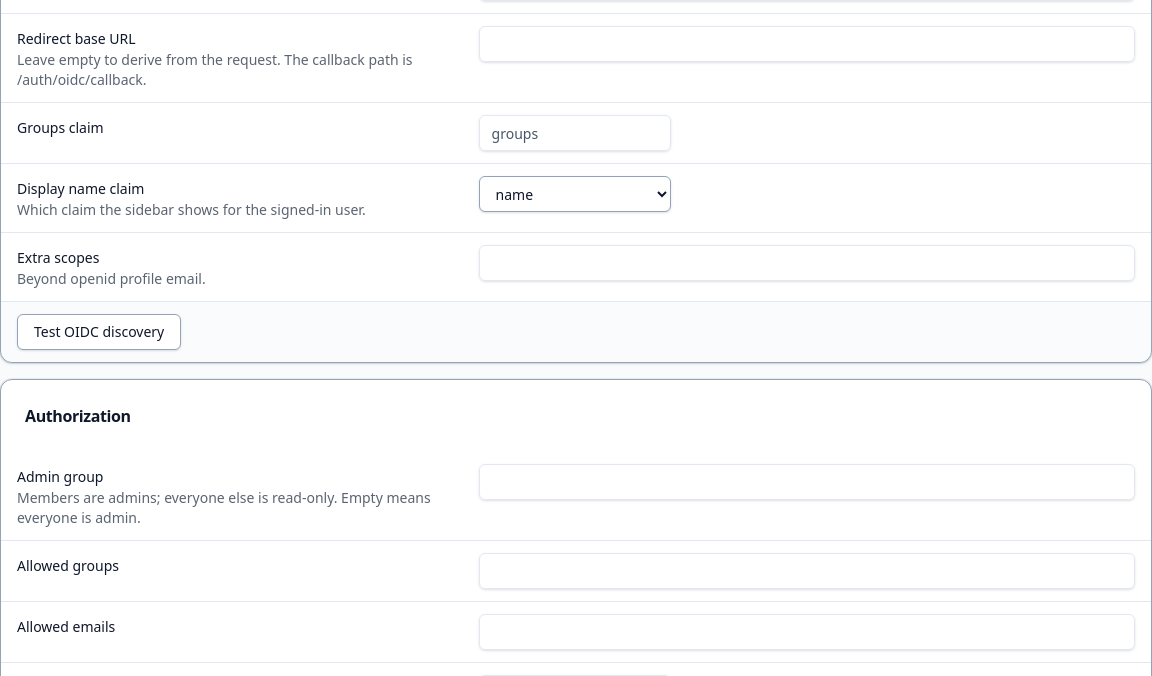
it: AccessSection › shows the Provider card with a working Test OIDC discovery button
The width and height of the screenshot is (1152, 676).
(page scrolled)
Click the button "Test OIDC discovery": (99,332) [17, 314, 181, 350]
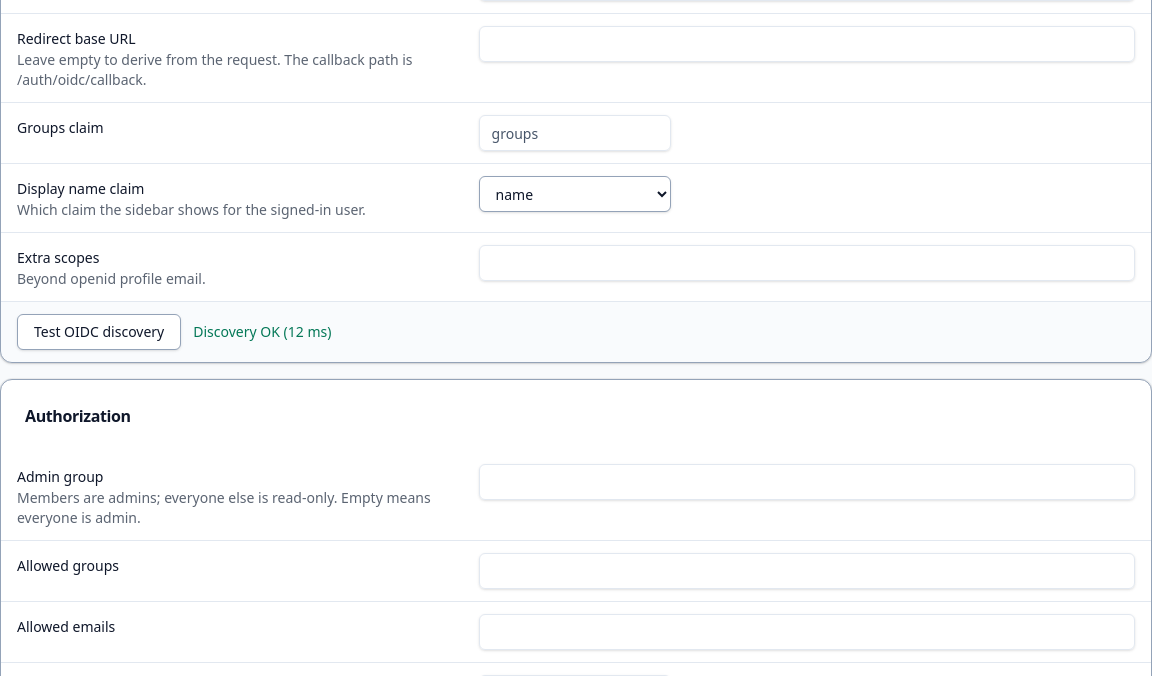
Check: the text "Discovery OK (12 ms)" is shown, box [193, 322, 331, 342]
